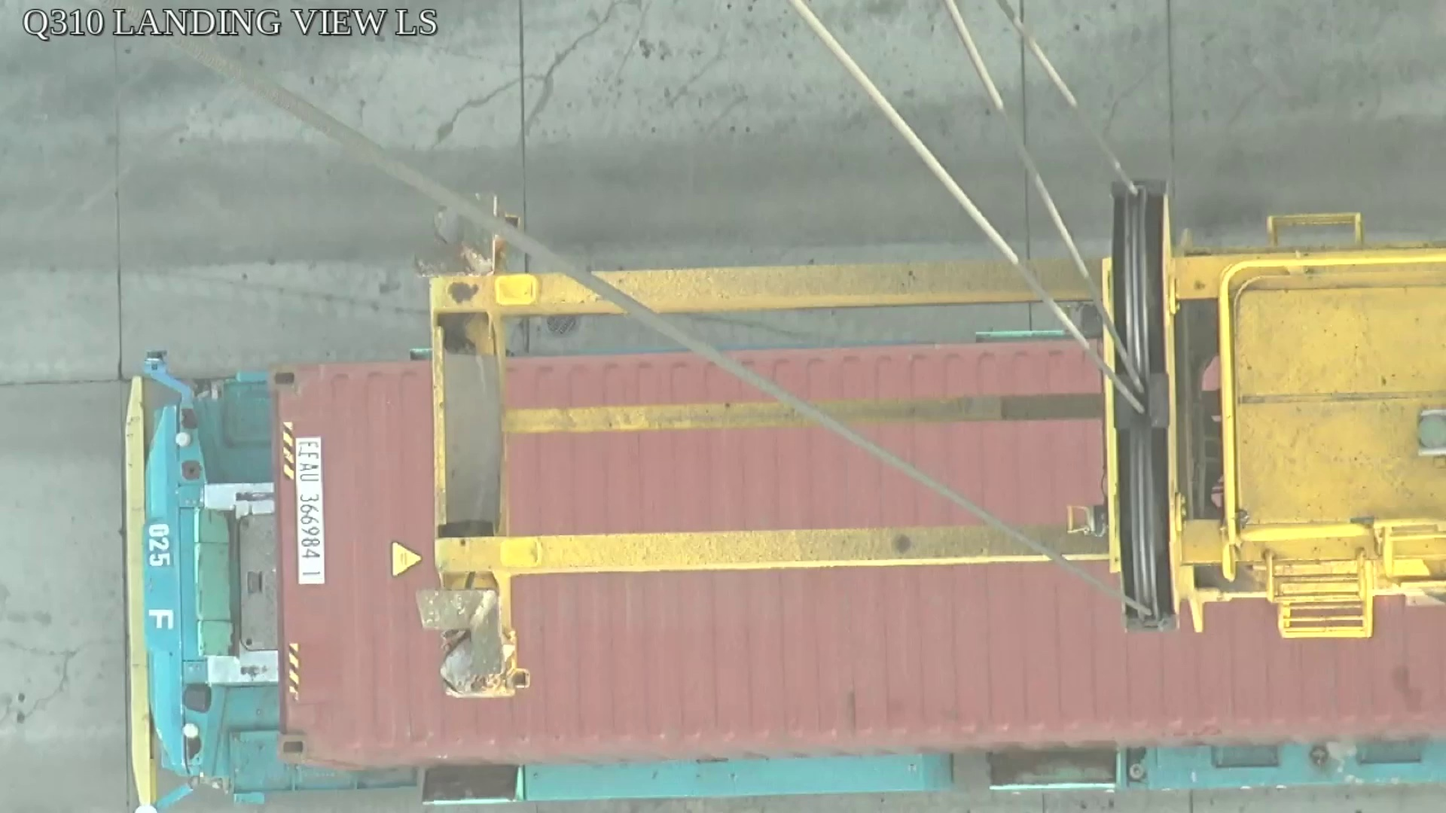aa: (1110, 181, 1182, 634)
